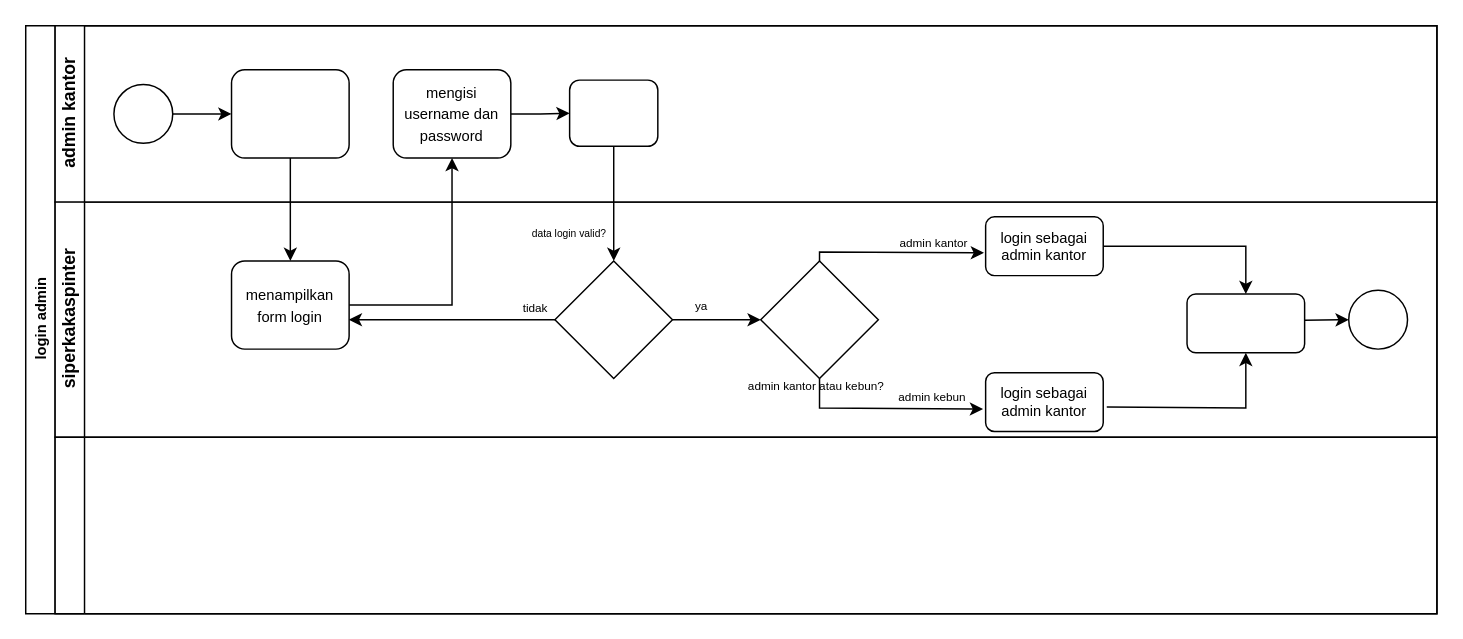
Some shapes in this 1463 by 639 pixel diagram are drawn without their labels. The shapes that lost their labels are listed below. From the top down, each one's centre as x and y in pixels, then its label:
pixel 289 113: memilih menu login di halaman dashboard
pixel 613 112: klik tombol login
pixel 1245 323: menampilkan halaman admin
pixel 745 525: Lane 3
